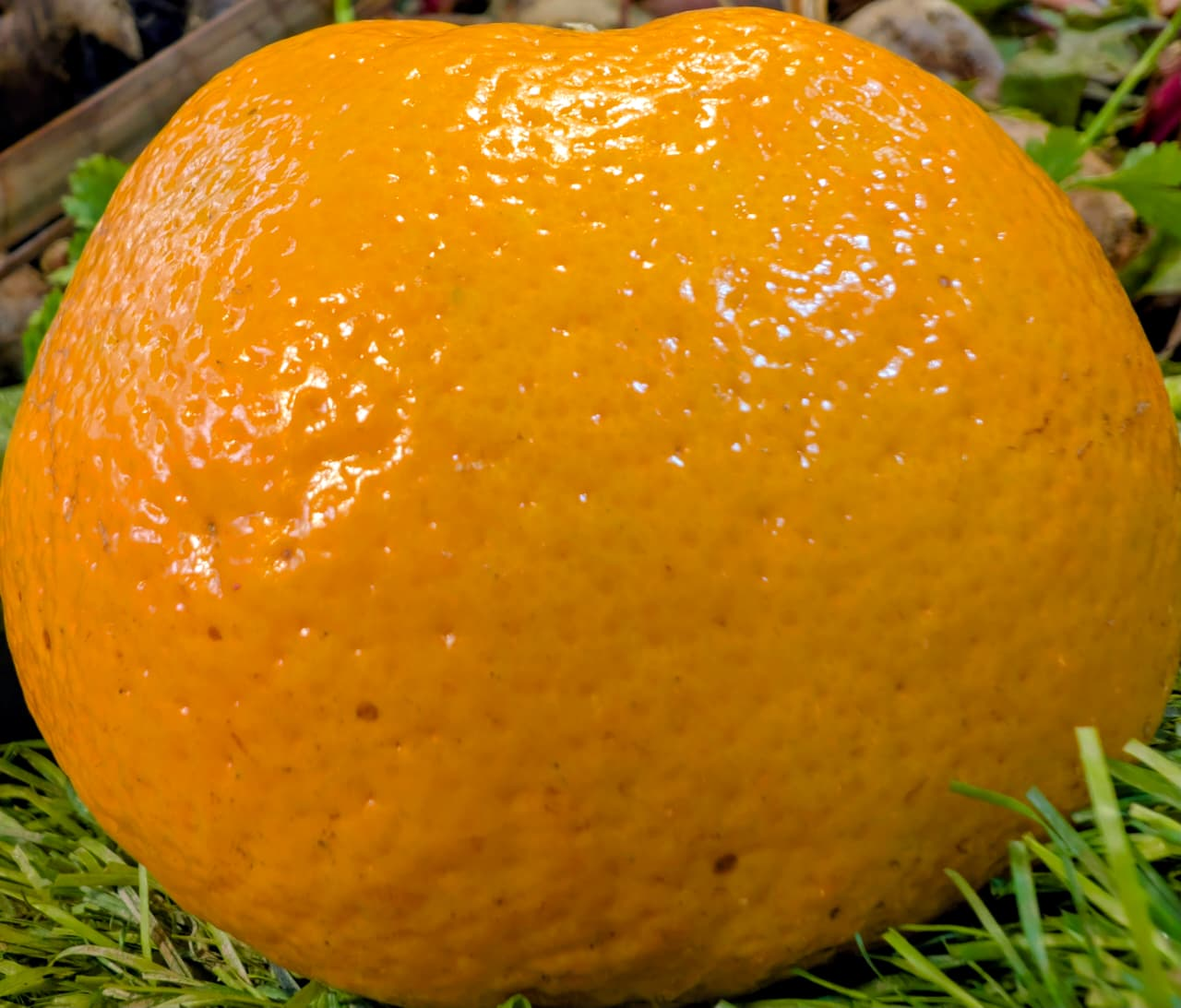orange: (34, 200, 959, 970)
